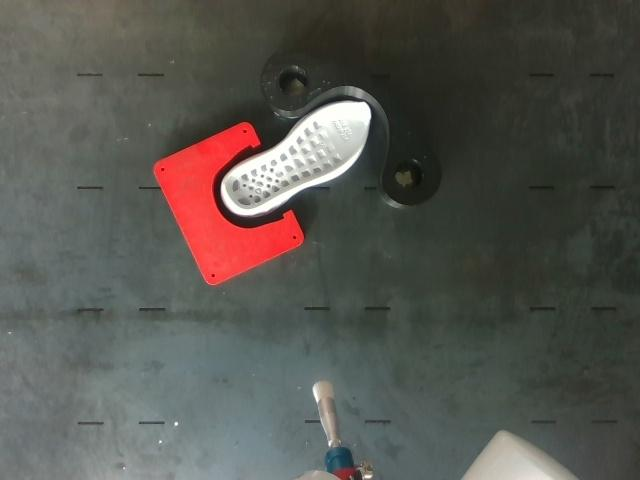shoes: (226, 103, 370, 210)
